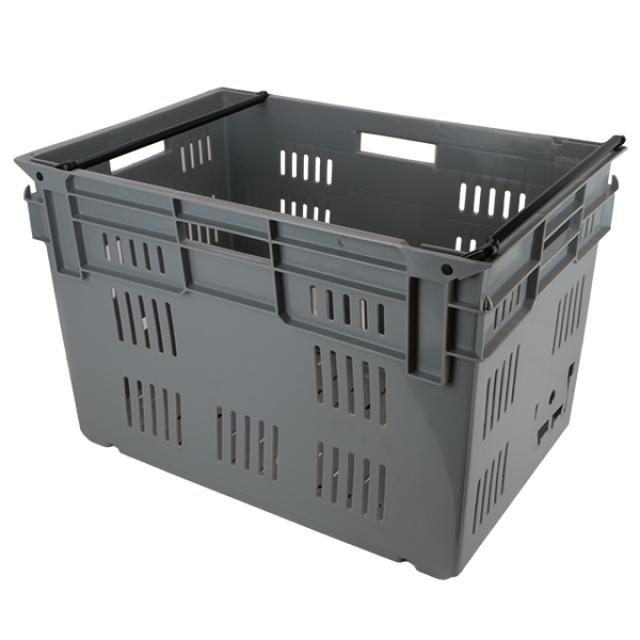basket: (0, 64, 629, 596)
